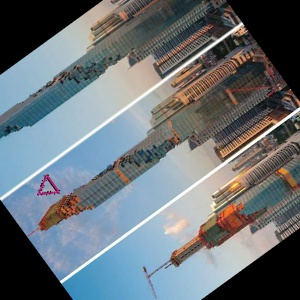triangle: (36, 170, 61, 196)
